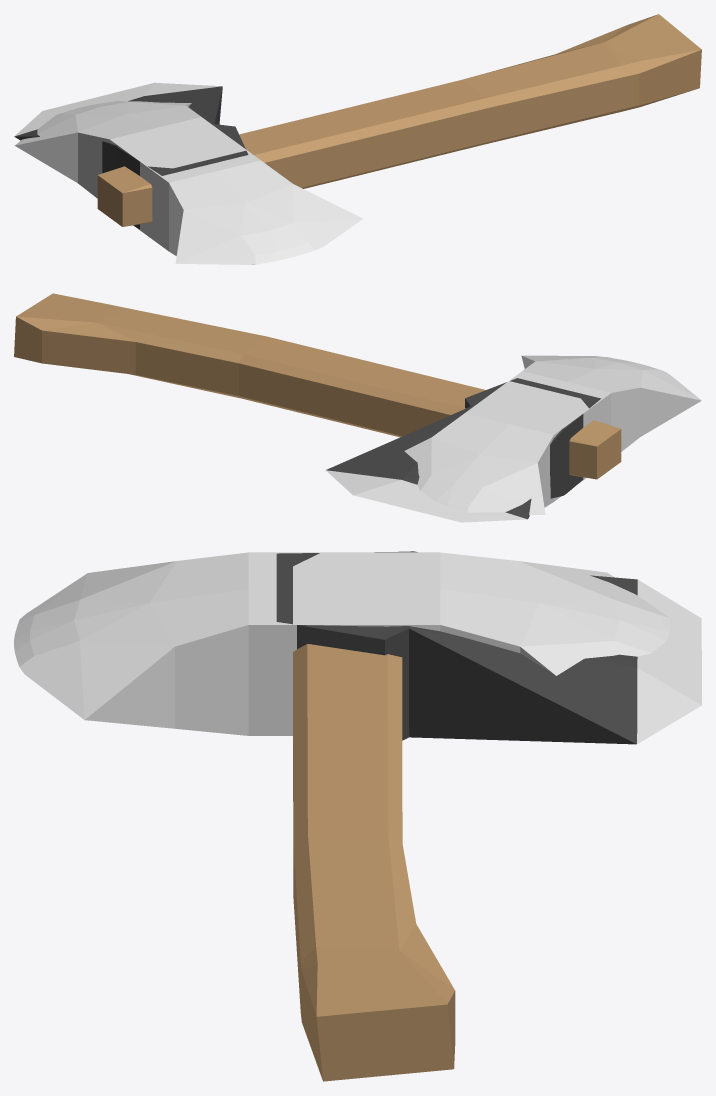
File: SM_Axe_01.fbx
3 renders of one model, top to bottom at view 1: azimuth 30°, elevation 25°; view 2: azimuth 150°, elevation 25°; view 3: azimuth 270°, elevation 25°, orthographic. The views are drawn at different scales.
Visible parts, largest first — view 1: Axe.Handle, Axe.Head_2, Axe.Head_1; view 2: Axe.Handle, Axe.Head_2, Axe.Head_1; view 3: Axe.Head_2, Axe.Handle, Axe.Head_1.
Boxes of the visible parts, box(x1,y1,x2,y2) form: Axe.Handle: box(97, 14, 701, 226); Axe.Head_2: box(14, 101, 362, 264); Axe.Head_1: box(14, 82, 248, 229); Axe.Handle: box(14, 293, 621, 479); Axe.Head_2: box(404, 355, 701, 515); Axe.Head_1: box(326, 378, 600, 522); Axe.Head_2: box(14, 552, 669, 735); Axe.Handle: box(293, 644, 455, 1081); Axe.Head_1: box(276, 551, 701, 744).
Bounding box in the file's own units: 41 × 4.54 × 25.33.
